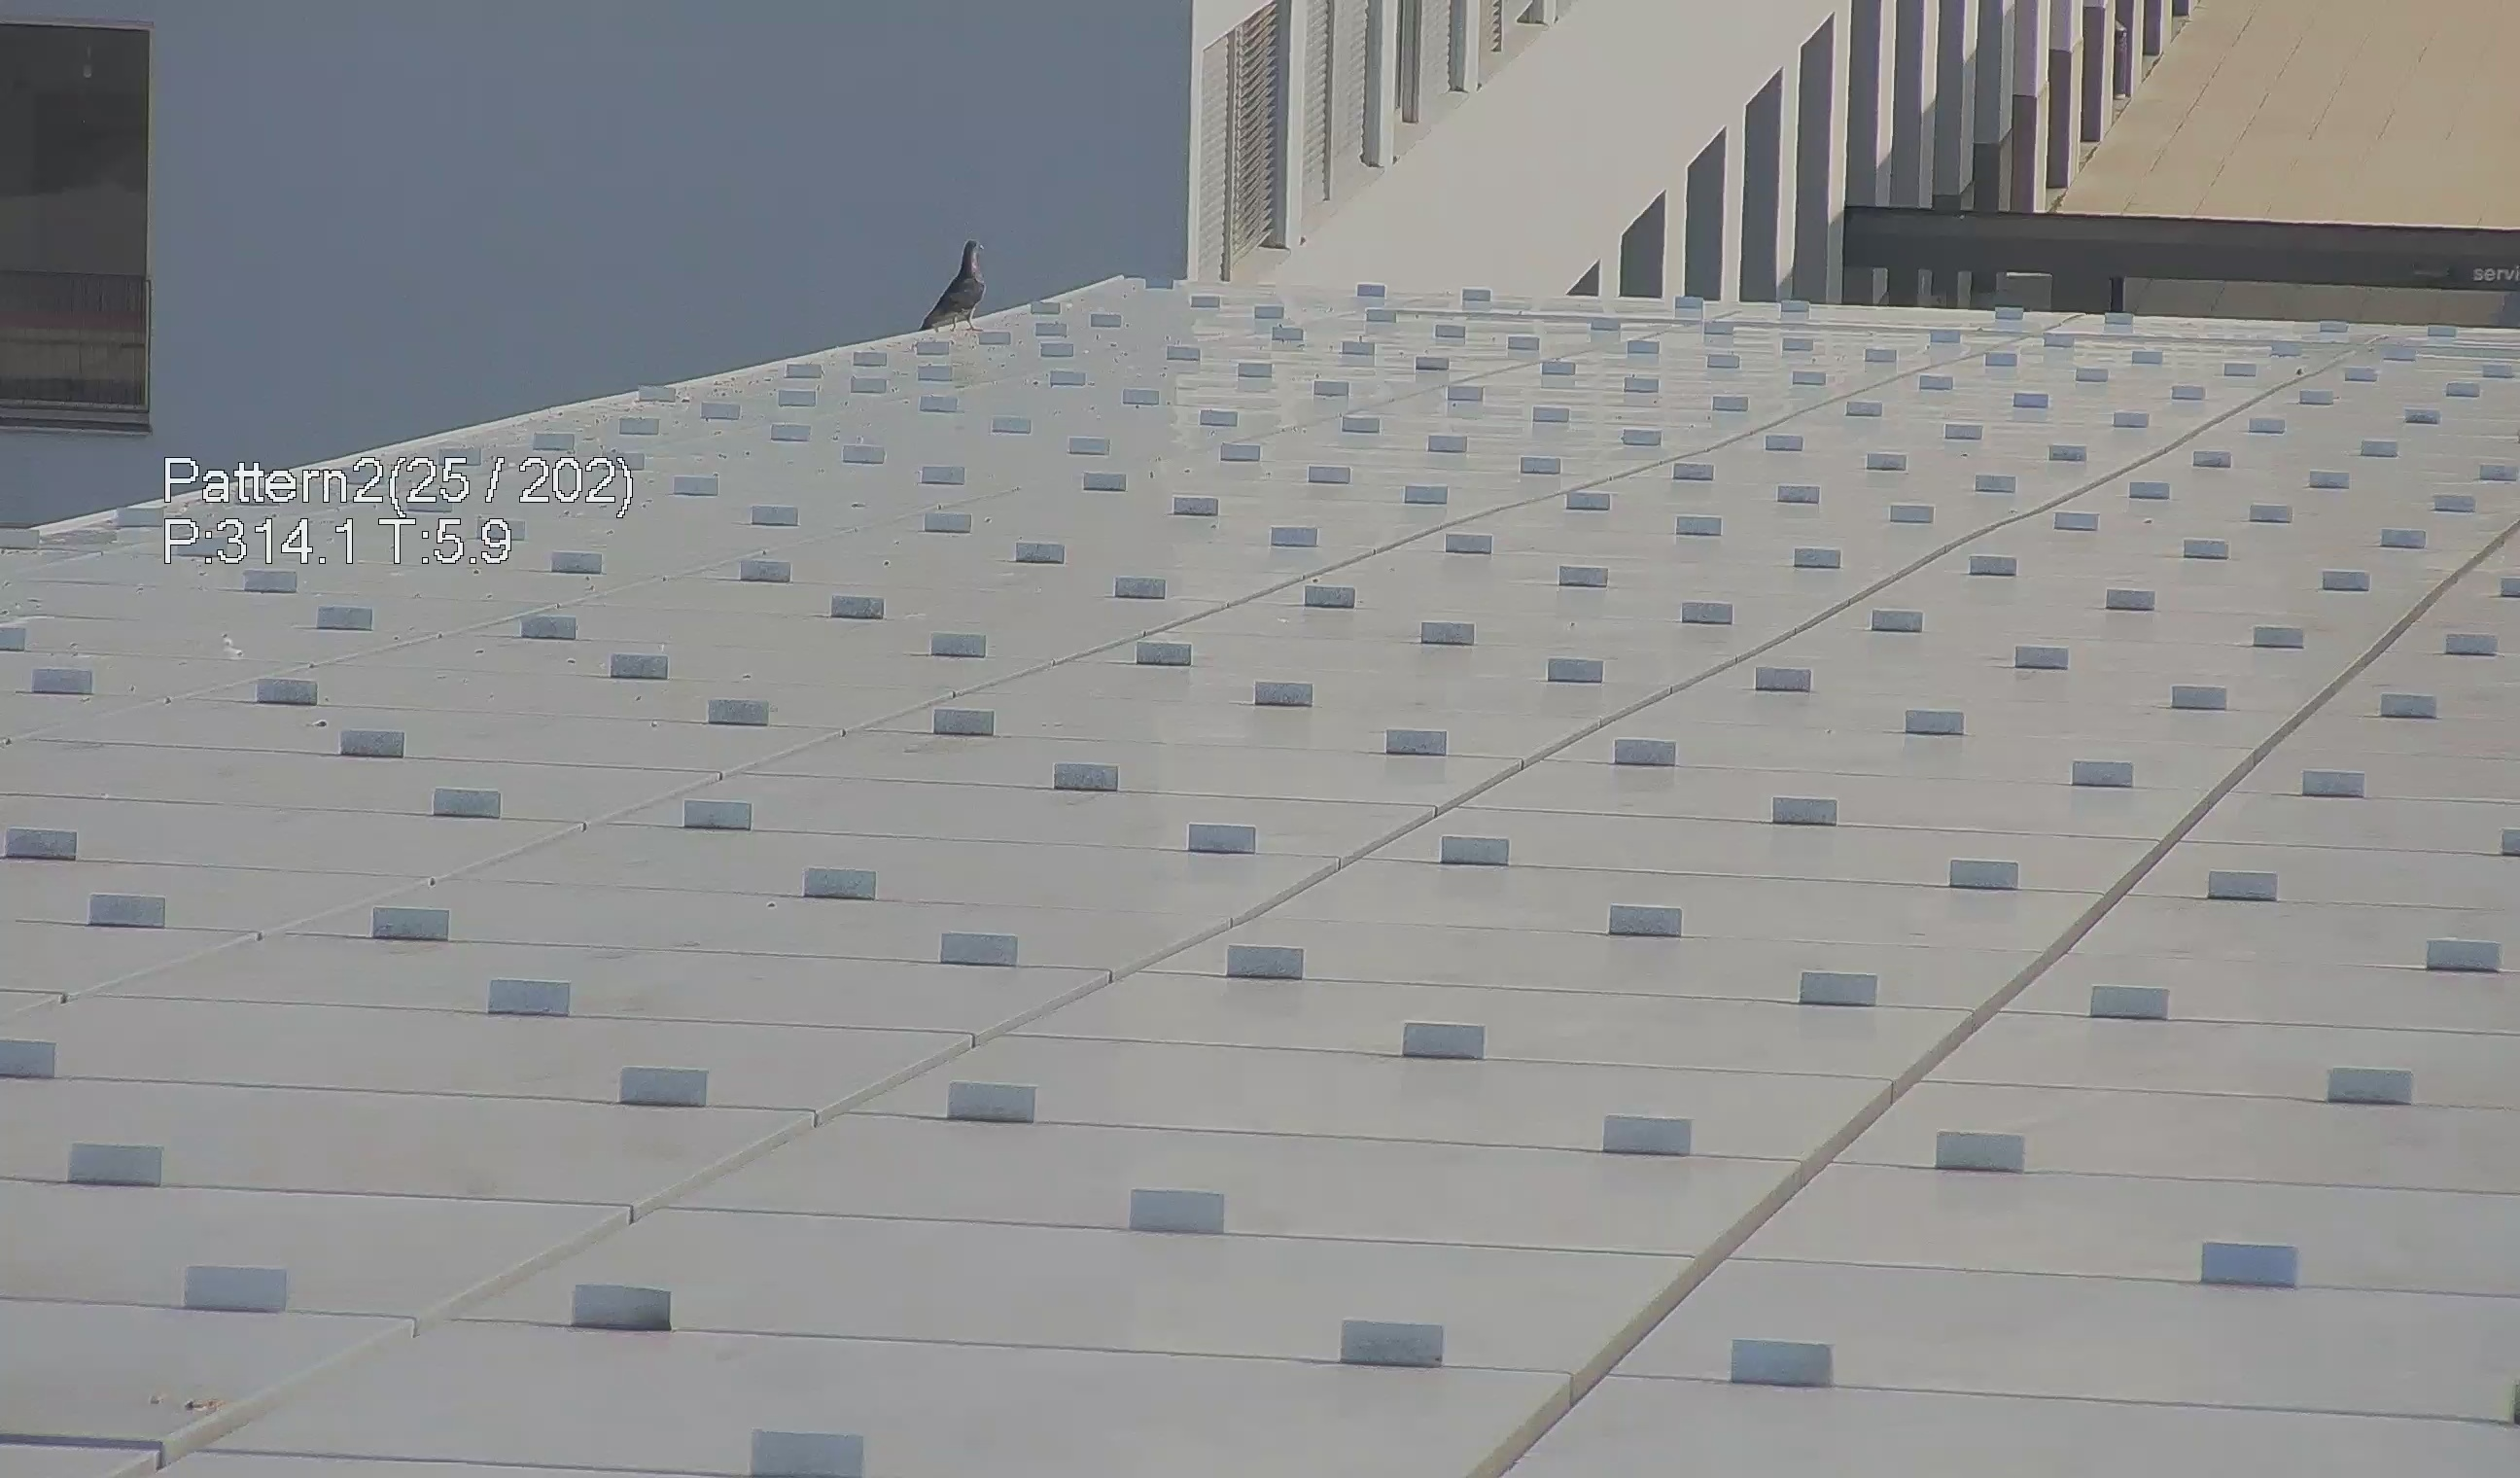Pigeon: (899, 225, 995, 343)
